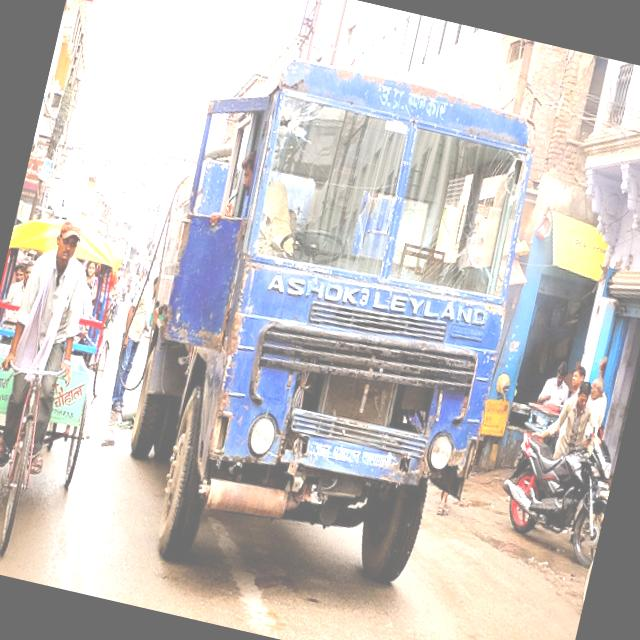Vehicle: (92, 46, 547, 624), (487, 404, 623, 568)
